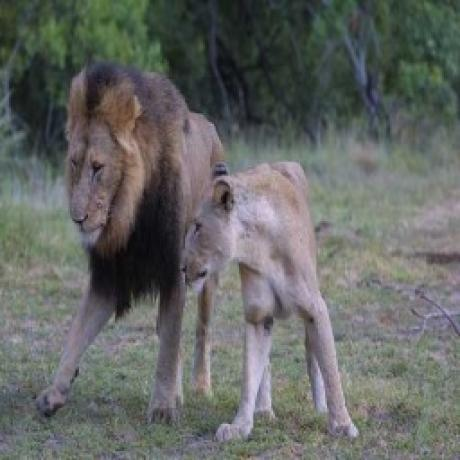Lion: (36, 60, 226, 425), (178, 161, 362, 443)
